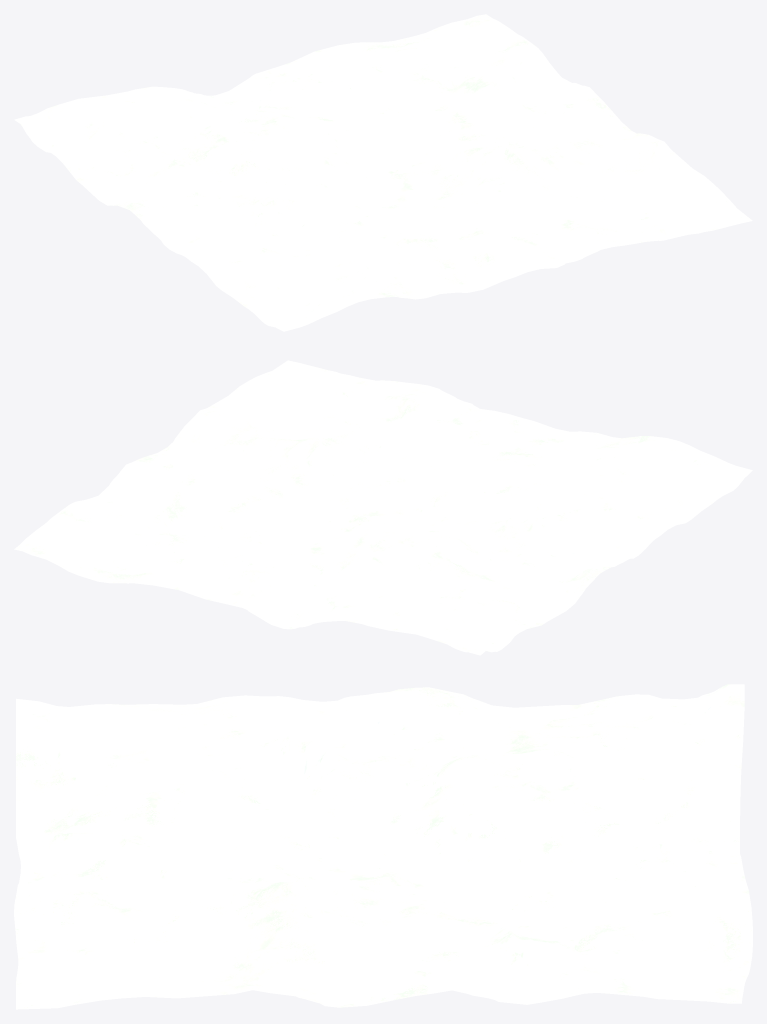
Rendered from Landscape.glb.
3 renders of one model, top to bottom at view 1: azimuth 30°, elevation 25°; view 2: azimuth 150°, elevation 25°; view 3: azimuth 270°, elevation 25°, orthographic. The views are drawn at different scales.
Visible parts, largest first — view 1: ALPHS Noise Mountains; view 2: ALPHS Noise Mountains; view 3: ALPHS Noise Mountains.
Boxes of the visible parts, x1=… form: ALPHS Noise Mountains: x1=14, y1=14, x2=752, y2=331; ALPHS Noise Mountains: x1=14, y1=360, x2=752, y2=655; ALPHS Noise Mountains: x1=14, y1=684, x2=752, y2=1009.
Bounding box in the file's own units: 8.51 × 0.7189 × 8.59.
Materials: 1 (1 with a texture image).
